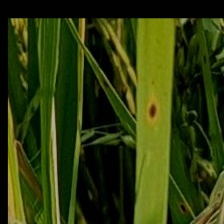Bacterial_Leaf_Blight: (143, 92, 162, 125)
